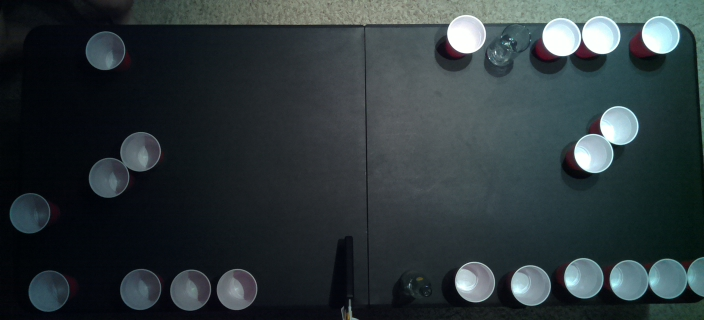active bp cup: (8, 191, 52, 234), (119, 131, 161, 172), (597, 105, 639, 146), (570, 134, 613, 174), (89, 157, 129, 198)
inactive bp cup: (454, 260, 496, 303), (562, 257, 605, 299), (26, 269, 69, 311), (169, 269, 211, 311), (119, 268, 161, 310), (216, 268, 257, 311), (510, 264, 551, 306), (541, 16, 581, 59), (608, 258, 648, 301), (639, 15, 680, 56), (84, 31, 126, 69), (446, 15, 486, 54), (581, 16, 622, 54), (648, 258, 686, 298), (687, 256, 703, 297)
